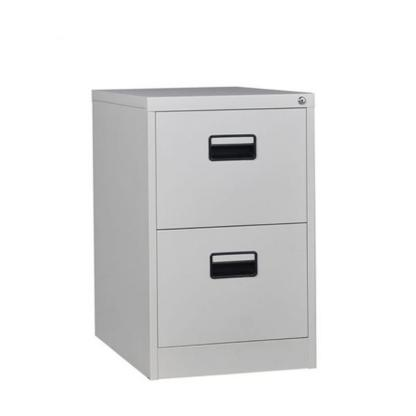Cabinet: (92, 85, 316, 382)
